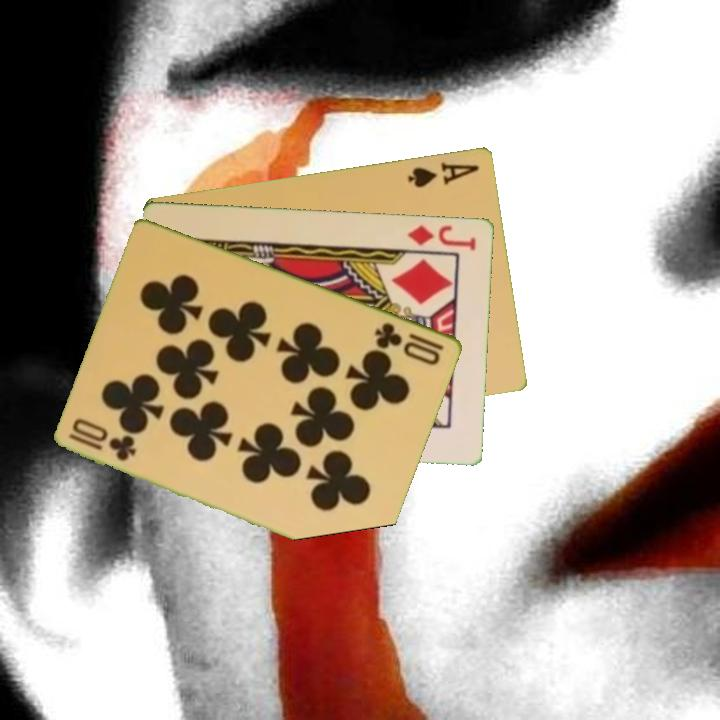10c: (371, 318, 447, 368), (65, 429, 140, 464)
As: (404, 158, 482, 190)
Jd: (404, 221, 479, 252)
